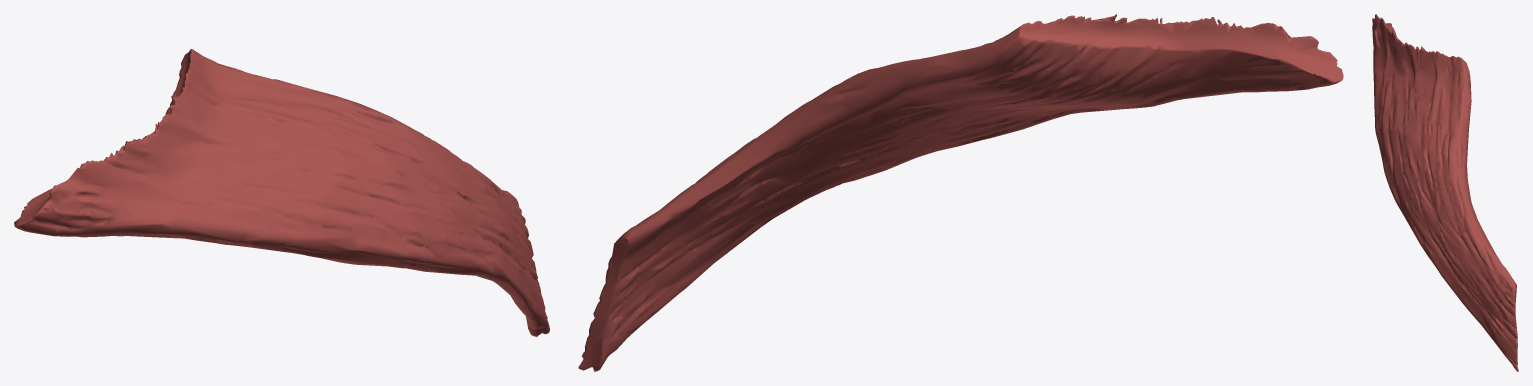
Rendered from FMA34691.glb.
3 views of the same model, side by side, from view 1: azimuth 30°, elevation 25°; view 2: azimuth 150°, elevation 25°; view 3: azimuth 270°, elevation 25° (orthographic). The views are drawn at different scales.
Visible parts, largest first — view 1: FMA34691; view 2: FMA34691; view 3: FMA34691.
Part boxes in pixels (x1,y1,x2,y2): FMA34691: [14, 49, 549, 336]; FMA34691: [578, 14, 1343, 371]; FMA34691: [1372, 14, 1518, 371].
Size of the model in its own units: 0.1681 by 0.102 by 0.0634.
